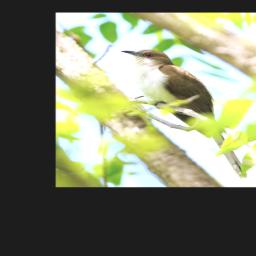Cuckoo: (120, 48, 250, 179)
